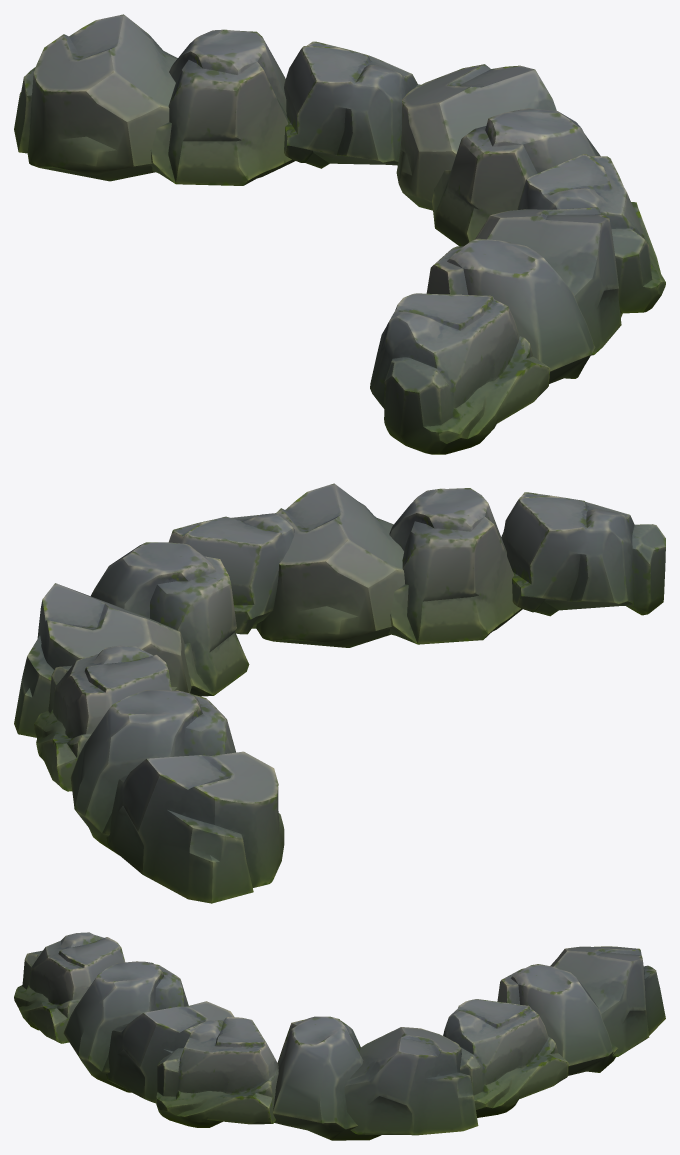
The model's file is Hextilestone_side2.glb.
3 views of the same model, one above another, from view 1: azimuth 30°, elevation 25°; view 2: azimuth 150°, elevation 25°; view 3: azimuth 270°, elevation 25° (orthographic). The views are drawn at different scales.
Visible parts, largest first — view 1: Rock_Medium_3.006, Rock_Medium_2.007, Rock_Medium_1.007, Rock_Medium_3.007, Rock_Medium_1.005, Rock_Medium_1.006, Rock_Medium_2.004, Rock_Medium_2.006, Rock_Medium_3.005; view 2: Rock_Medium_2.007, Rock_Medium_2.006, Rock_Medium_3.006, Rock_Medium_1.006, Rock_Medium_1.005, Rock_Medium_1.007, Rock_Medium_2.004, Rock_Medium_3.007, Rock_Medium_3.005; view 3: Rock_Medium_2.004, Rock_Medium_3.005, Rock_Medium_3.007, Rock_Medium_1.005, Rock_Medium_1.006, Rock_Medium_2.007, Rock_Medium_1.007, Rock_Medium_3.006, Rock_Medium_2.006.
Part boxes in pixels (box(x1,y1,x2,y2)): Rock_Medium_3.006: box(370, 293, 550, 454); Rock_Medium_2.007: box(14, 14, 177, 181); Rock_Medium_1.007: box(150, 29, 294, 185); Rock_Medium_3.007: box(284, 41, 420, 168); Rock_Medium_1.005: box(432, 108, 600, 246); Rock_Medium_1.006: box(426, 238, 595, 383); Rock_Medium_2.004: box(396, 64, 556, 210); Rock_Medium_2.006: box(475, 207, 622, 355); Rock_Medium_3.005: box(517, 154, 665, 313); Rock_Medium_2.007: box(106, 751, 284, 903); Rock_Medium_2.006: box(252, 483, 404, 647); Rock_Medium_3.006: box(501, 492, 665, 616); Rock_Medium_1.006: box(388, 488, 522, 644); Rock_Medium_1.005: box(91, 542, 249, 696); Rock_Medium_1.007: box(70, 690, 236, 855); Rock_Medium_2.004: box(14, 583, 191, 737); Rock_Medium_3.007: box(34, 645, 171, 791); Rock_Medium_3.005: box(168, 513, 294, 634); Rock_Medium_2.004: box(344, 1027, 478, 1135); Rock_Medium_3.005: box(156, 1017, 278, 1127); Rock_Medium_3.007: box(443, 999, 568, 1117); Rock_Medium_1.005: box(273, 1016, 381, 1140); Rock_Medium_1.006: box(63, 961, 188, 1092); Rock_Medium_2.007: box(550, 946, 665, 1057); Rock_Medium_1.007: box(497, 964, 617, 1075); Rock_Medium_3.006: box(14, 932, 124, 1043); Rock_Medium_2.006: box(106, 1001, 234, 1103).
Size of the model in its own units: 1.25 by 0.379 by 2.39.
3 materials, 3 textured.
